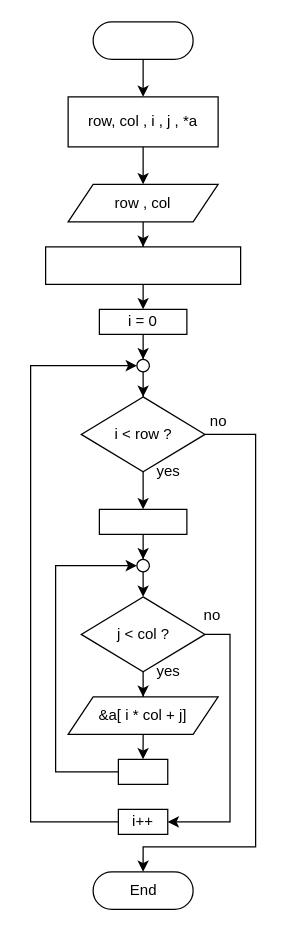
This 288x931 diagram has some shape labels left out. Here are the shapes that lost their labels. From the top down, the centre of each, then its label:
At point (142, 40): "Start".
At point (142, 265): "a = new int [ row * col ]".
At point (142, 521): "j = 0".
At point (142, 771): "j++".
